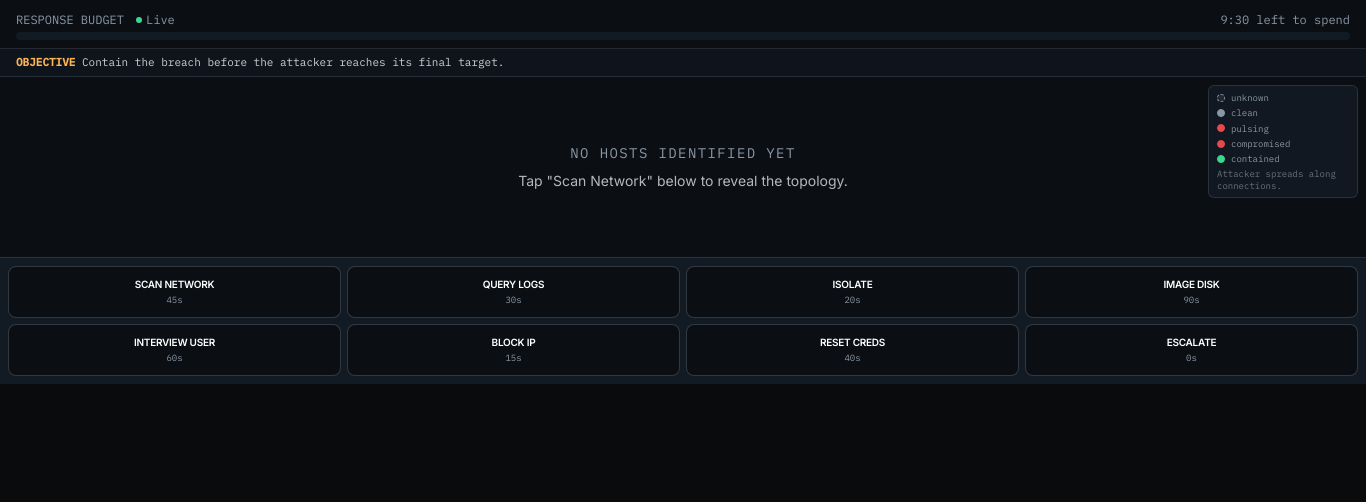
Test case: ActionConsole › disables an already-notified party in the picker
Click the text "Escalate".
click(1192, 342)  # box [1167, 336, 1216, 349]
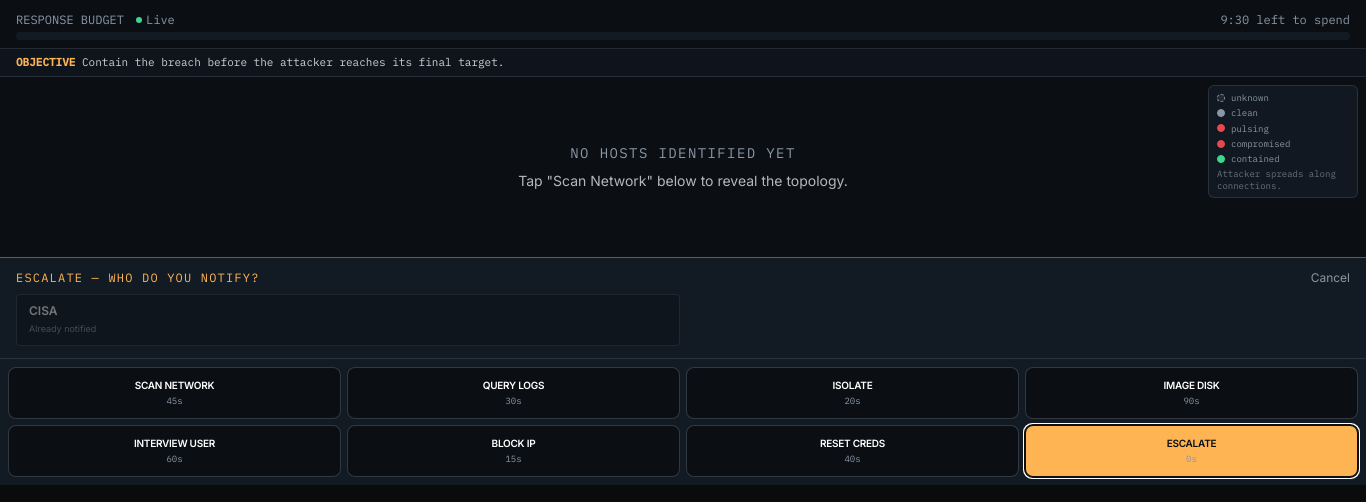
Result: the button "CISA Already notified" is disabled at [16, 294, 680, 346]
